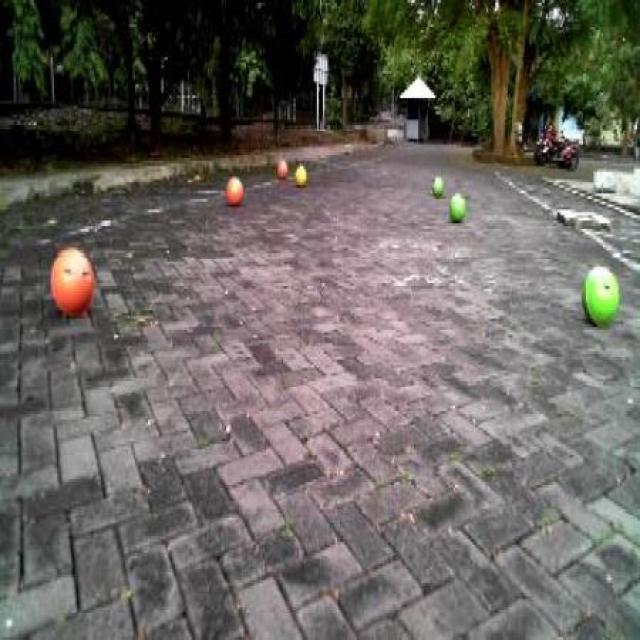buoy: (43, 232, 99, 327), (574, 253, 628, 333), (218, 159, 250, 214), (443, 179, 474, 232), (288, 150, 312, 190), (426, 162, 444, 201), (273, 149, 290, 181)
